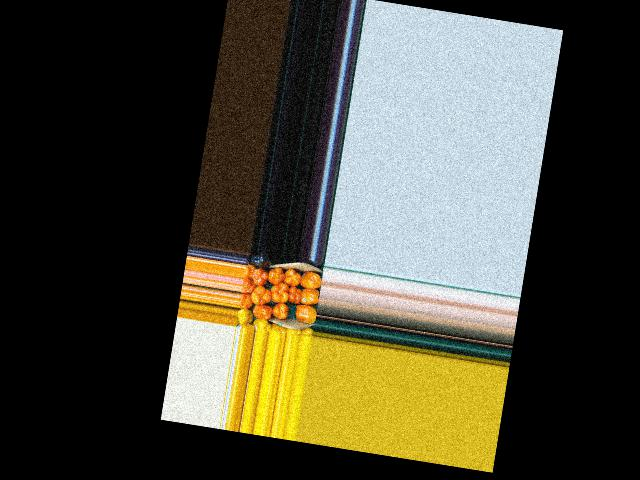bell_pepper: (251, 318, 274, 331)
